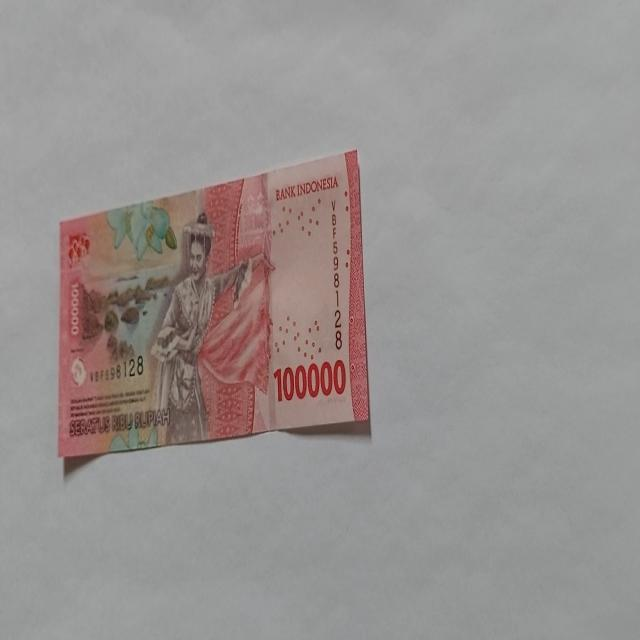seratus ribu rupiah: (57, 148, 371, 460), (148, 211, 256, 444)
